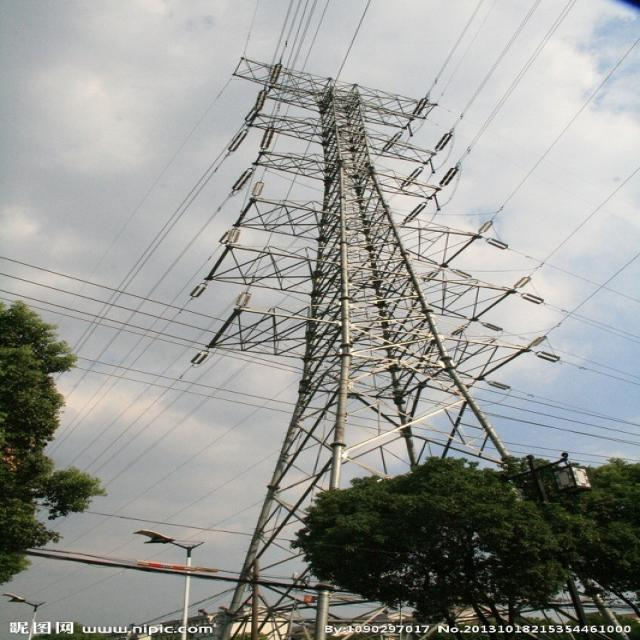non-critical vegetation: (208, 43, 636, 635)
